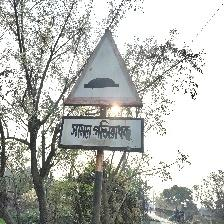Speed-breaker: (60, 29, 144, 154)
